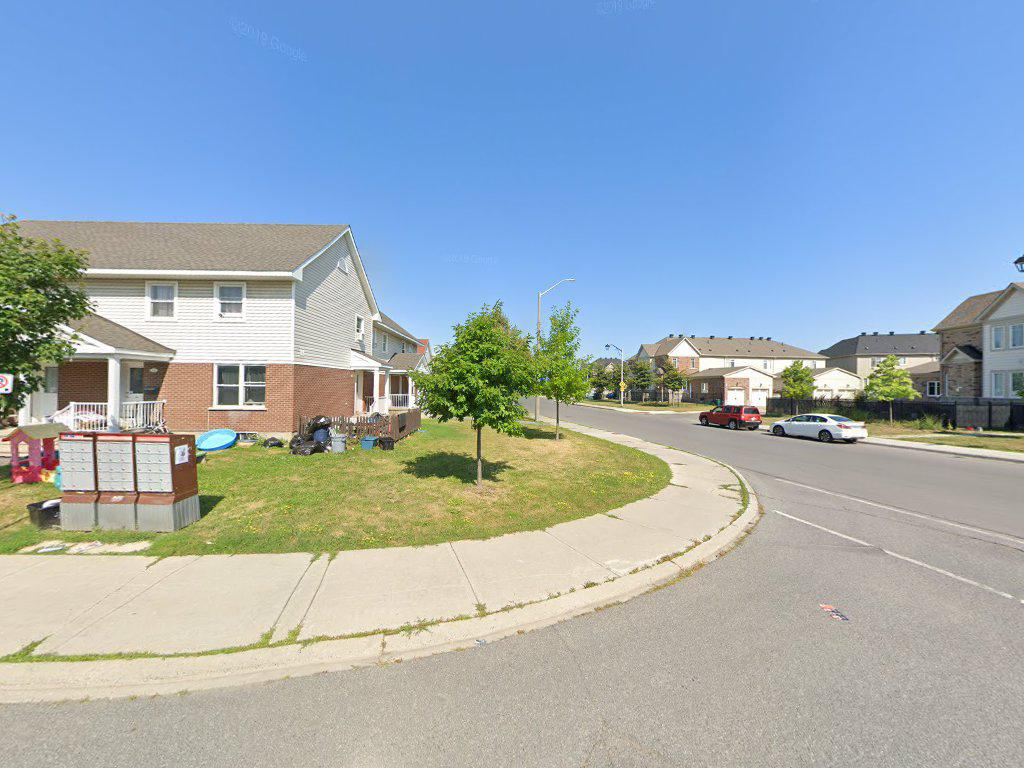trunk: (474, 421, 486, 488)
